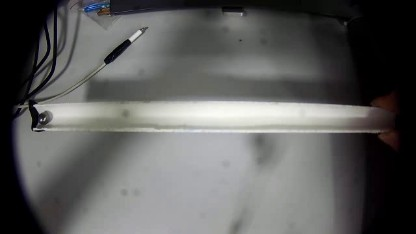gangzhu: (37, 108, 46, 125)
